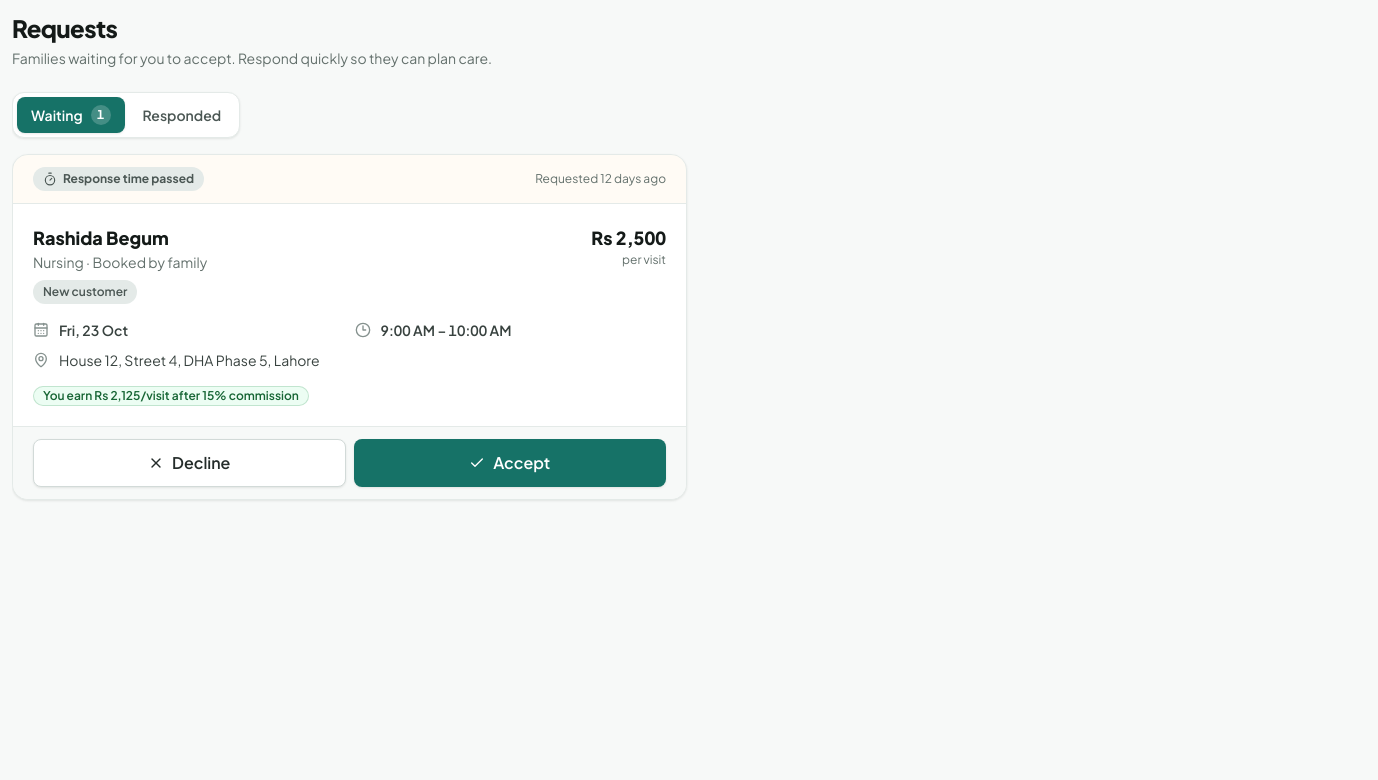
Scenario: requests page › shows the backend error when accepting fails
Click the button "Accept". click: click(510, 463)
box: [354, 439, 666, 487]
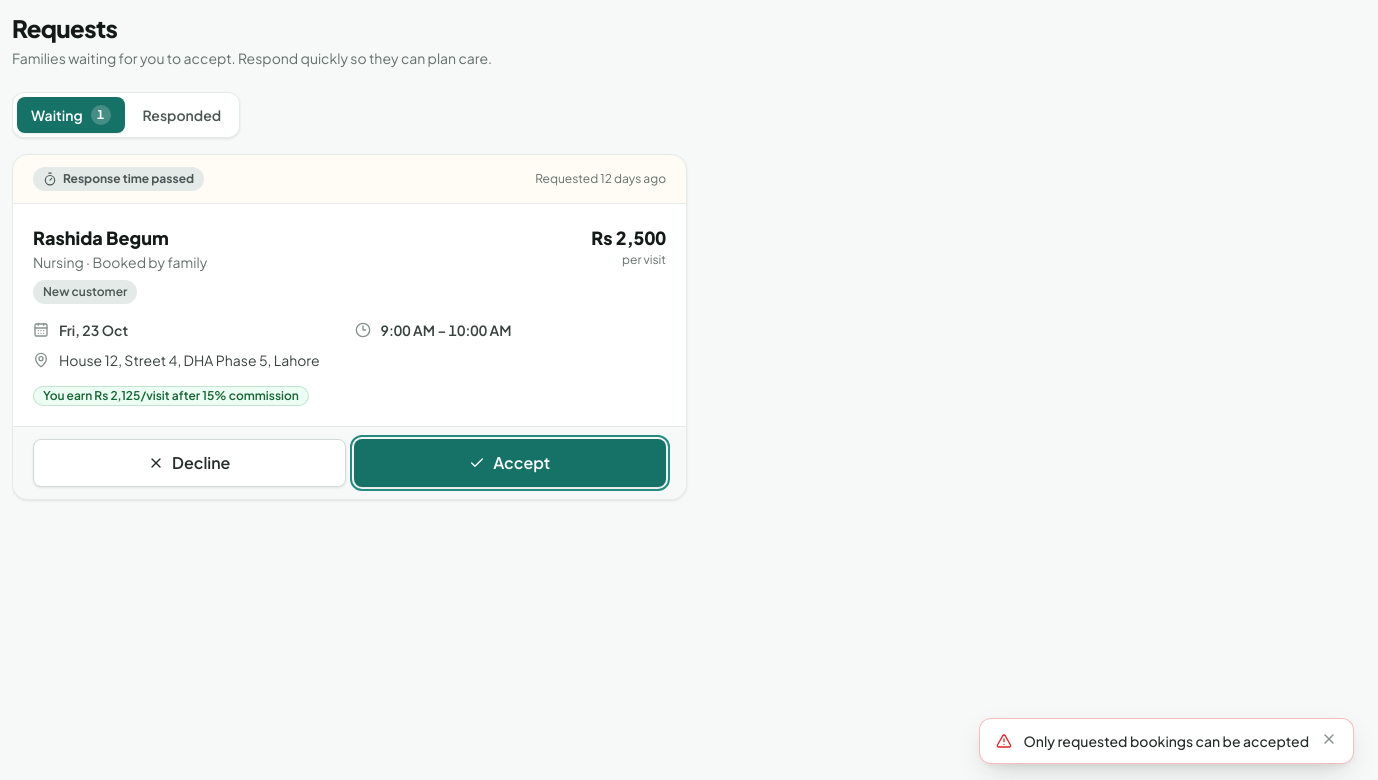
Check: the text "Only requested bookings can be accepted" is shown, box [1024, 731, 1309, 751]
